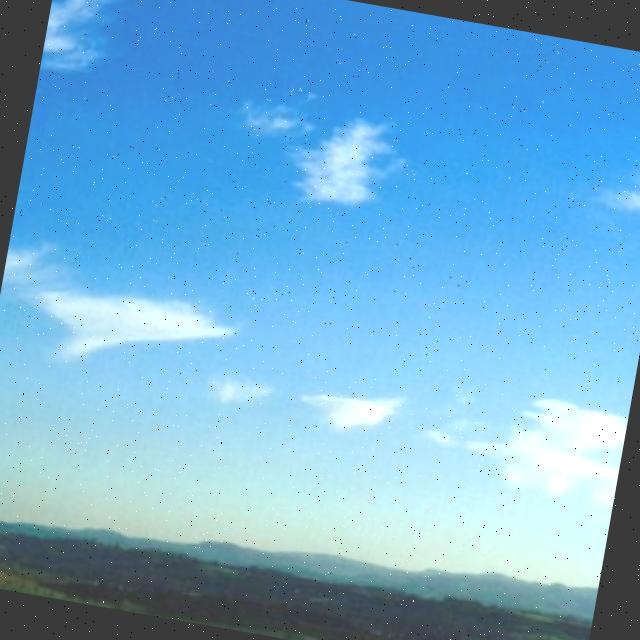Ci: (1, 36, 640, 530)
